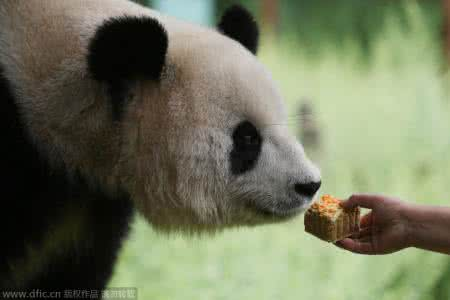panda: (1, 1, 321, 300)
